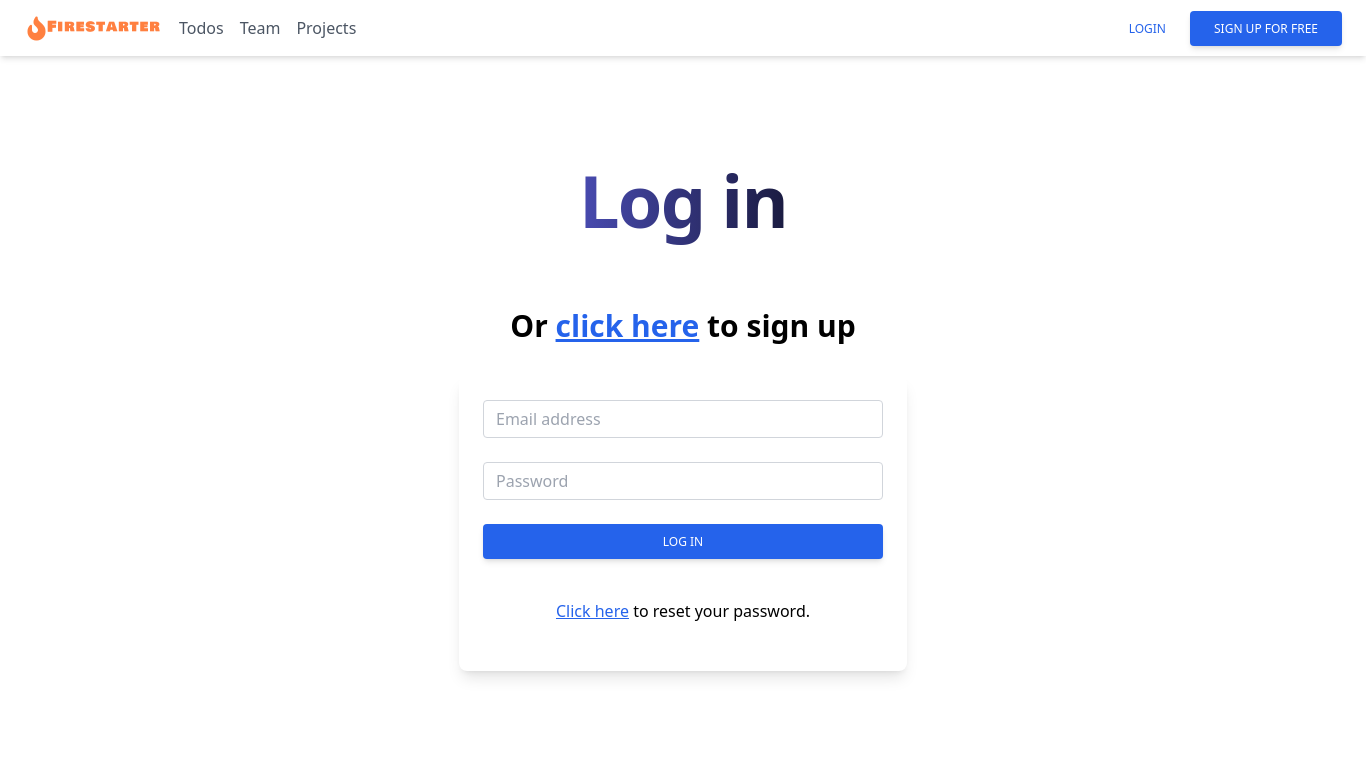
Login › validates the email address exists
Type "me@them.com" into the field with placeholder "Email address".
click(683, 419); type("me@them.com")  # box top-left (483, 400), bottom-right (883, 438)
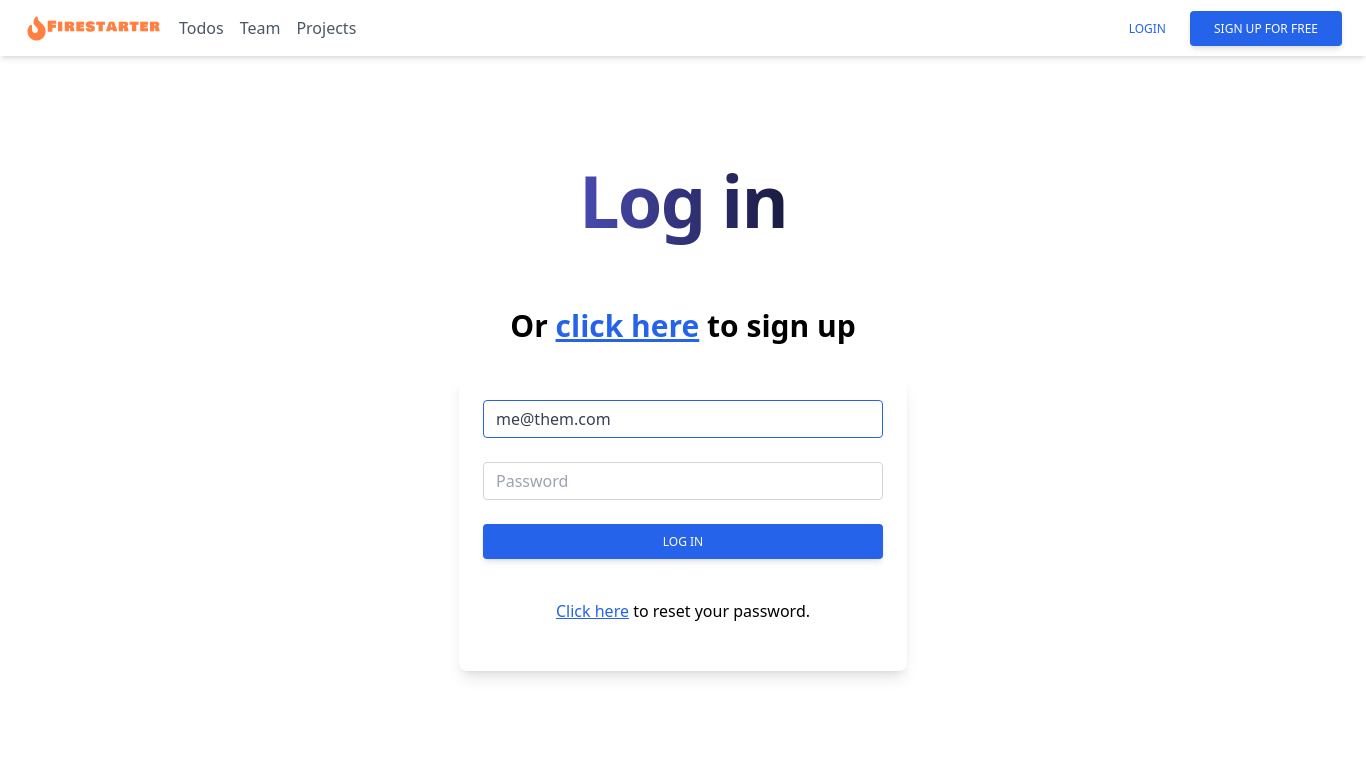
Type "password123" into the password field with placeholder "Password".
click(683, 481); type("password123")  # box top-left (483, 462), bottom-right (883, 500)
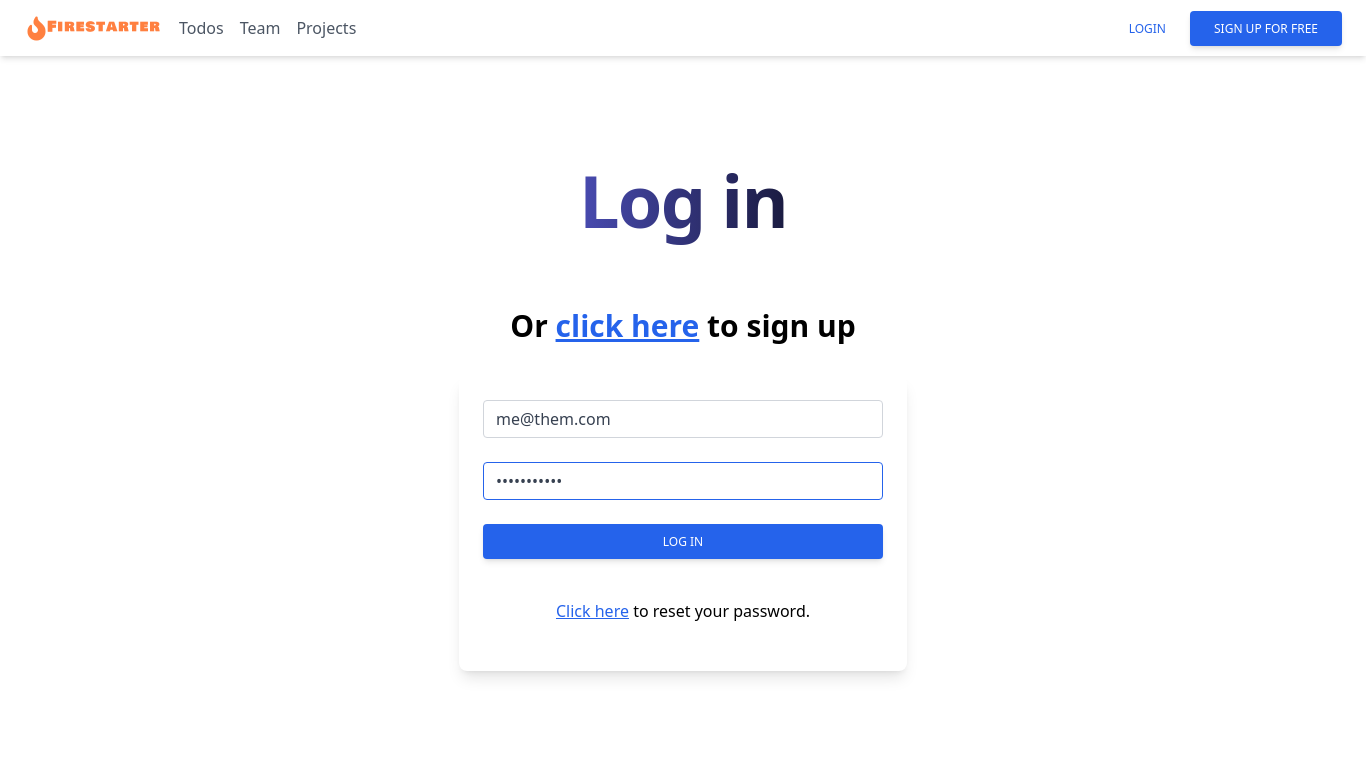
Clear the field with placeholder "Email address" at coordinates (683, 419), box top-left (483, 400), bottom-right (883, 438)
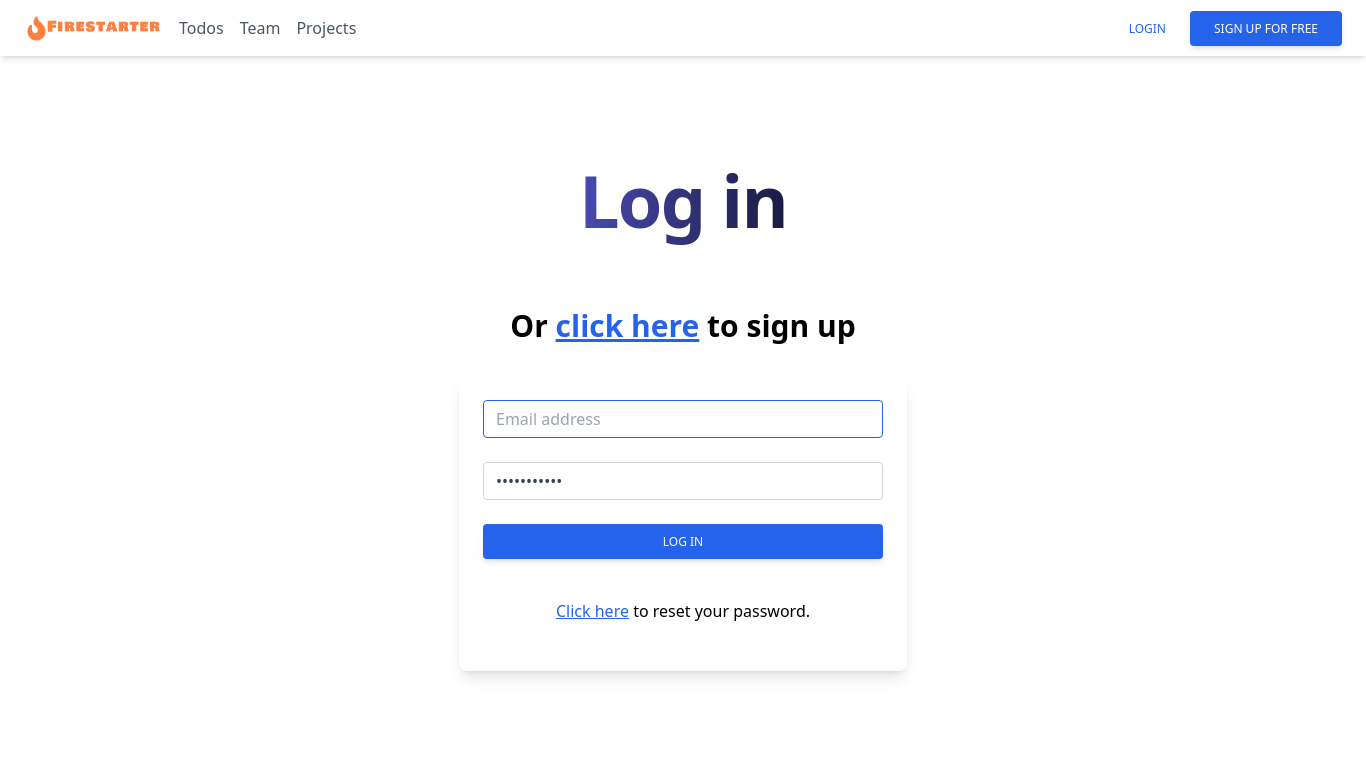
Click the button "Log in".
click(683, 542)  # box top-left (483, 524), bottom-right (883, 559)
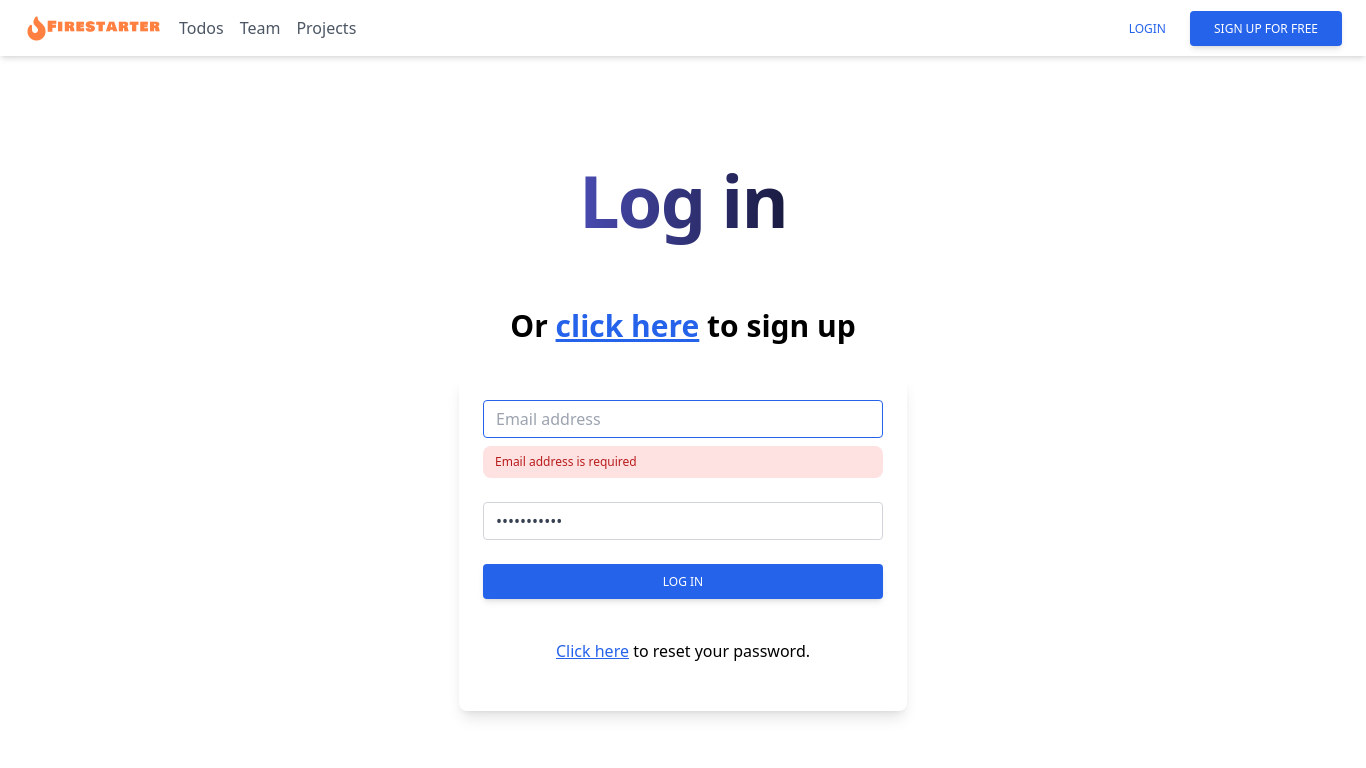
Check: the number of messages is 1, box top-left (483, 446), bottom-right (883, 478)
Check: the message reads "Email address is required", box top-left (495, 453), bottom-right (637, 470)
